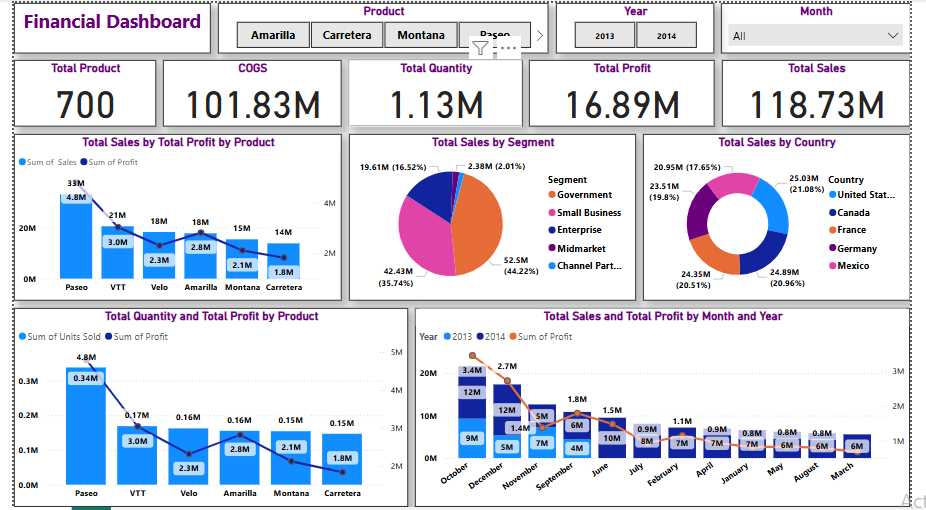

The dashboard page shown, as its layout file describes it:
{"tool":"powerbi","page":{"name":"Page 1","canvas":[1280,720],"ordinal":0},"visuals":[{"type":"textbox","box":[0,0,280.8,72],"z":0},{"type":"textbox","box":[10.1,290.6,280.5,68.9],"z":1000},{"type":"slicer","title":"Month","fields":{"Values":["financials.Month Name"]},"box":[1009.4,0,270.7,72],"z":2000},{"type":"slicer","title":"Product","fields":{"Values":["financials.Product"]},"box":[290.9,0,472.3,72],"z":3000},{"type":"slicer","title":"Year","fields":{"Values":["financials.Year"]},"box":[774.7,0,226.1,72],"z":4000},{"type":"card","title":"Total Product","fields":{"Values":["CountNonNull(financials.Product)"]},"box":[0,82.1,203,95],"z":5000},{"type":"card","title":"COGS","fields":{"Values":["Sum(financials.COGS)"]},"box":[213.1,82.1,254.9,95],"z":6000},{"type":"card","title":"Total Quantity","fields":{"Values":["Sum(financials.Units Sold)"]},"box":[478.1,82.1,247.7,95],"z":7000},{"type":"card","title":"Total Profit","fields":{"Values":["Sum(financials.Profit)"]},"box":[735.8,82.1,265,95],"z":8000},{"type":"card","title":"Total Sales","fields":{"Values":["Sum(financials. Sales)"]},"box":[1010.9,82.1,269.3,95],"z":9000},{"type":"lineStackedColumnComboChart","title":"Total Sales by Total Profit by Product","fields":{"Category":["financials.Product"],"Y":["Sum(financials. Sales)"],"Y2":["Sum(financials.Profit)"]},"box":[0,187.2,468,237.6],"z":10000},{"type":"pieChart","title":"Total Sales by Segment","fields":{"Y":["Sum(financials. Sales)"],"Category":["financials.Segment"]},"box":[478.1,187.2,410.4,237.6],"z":11000},{"type":"donutChart","title":"Total Sales by Country","fields":{"Y":["Sum(financials. Sales)"],"Category":["financials.Country"]},"box":[898.6,187.2,381.6,237.6],"z":12000},{"type":"lineClusteredColumnComboChart","title":"Total Quantity and Total Profit by Product","fields":{"Y":["Sum(financials.Units Sold)"],"Y2":["Sum(financials.Profit)"],"Category":["financials.Product"]},"box":[0,436.3,563,283.7],"z":13000},{"type":"lineStackedColumnComboChart","title":"Total Sales and Total Profit by Month and Year","fields":{"Y":["Sum(financials. Sales)"],"Category":["financials.Month Name"],"Y2":["Sum(financials.Profit)"],"Series":["financials.Year"]},"box":[573.1,436.3,707,283.7],"z":14000}]}

Visuals, with their boxes in screenshot pixels (x1, y1, x2, y2), scaled from the page's 1280x720 canvas onto the 926x510 screenshot:
textbox: 0 0 203 51
textbox: 7 206 210 255
"Month" slicer: 730 0 925 51
"Product" slicer: 210 0 552 51
"Year" slicer: 560 0 724 51
"Total Product" card: 0 58 147 125
"COGS" card: 154 58 339 125
"Total Quantity" card: 346 58 525 125
"Total Profit" card: 532 58 724 125
"Total Sales" card: 731 58 925 125
"Total Sales by Total Profit by Product" lineStackedColumnComboChart: 0 133 339 301
"Total Sales by Segment" pieChart: 346 133 643 301
"Total Sales by Country" donutChart: 650 133 925 301
"Total Quantity and Total Profit by Product" lineClusteredColumnComboChart: 0 309 407 509
"Total Sales and Total Profit by Month and Year" lineStackedColumnComboChart: 415 309 925 509
